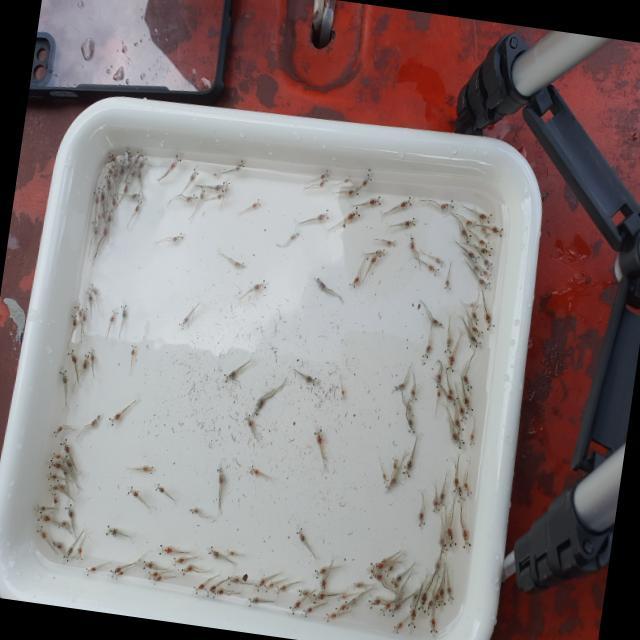babyshrimp: (450, 428, 466, 449), (417, 587, 429, 614), (346, 203, 361, 223), (402, 455, 414, 480), (253, 393, 266, 416), (461, 524, 472, 550), (408, 602, 418, 630), (126, 485, 143, 501), (104, 523, 121, 539), (459, 225, 472, 245), (447, 525, 458, 548), (462, 394, 474, 415), (180, 562, 198, 576), (169, 153, 182, 172), (312, 426, 325, 445), (484, 309, 495, 331), (453, 415, 465, 435), (206, 544, 221, 560), (289, 597, 303, 614), (158, 542, 175, 556), (63, 543, 75, 562), (59, 434, 71, 453), (440, 198, 455, 213), (466, 249, 481, 264), (314, 565, 329, 580), (313, 590, 328, 605), (252, 277, 266, 293), (388, 601, 402, 617), (367, 596, 383, 610), (391, 571, 405, 587), (369, 560, 385, 574), (226, 573, 242, 587), (204, 583, 218, 599), (36, 523, 49, 540), (445, 353, 456, 373), (462, 372, 473, 392), (316, 276, 328, 294), (253, 577, 267, 592), (37, 511, 52, 525), (399, 194, 412, 210), (427, 262, 440, 278), (108, 410, 121, 426), (429, 613, 438, 636), (437, 585, 446, 608), (178, 314, 190, 331), (393, 618, 405, 635), (53, 423, 65, 440), (386, 474, 397, 492), (445, 580, 454, 602), (369, 568, 383, 582), (344, 596, 358, 610), (304, 373, 318, 387), (491, 224, 504, 239), (469, 333, 482, 348), (445, 390, 458, 405), (325, 609, 338, 624), (193, 580, 206, 595), (295, 526, 307, 542), (224, 369, 236, 385), (444, 335, 454, 354), (59, 367, 69, 386), (64, 503, 75, 520), (67, 348, 78, 365), (171, 230, 184, 244), (478, 211, 492, 224), (334, 602, 347, 616), (248, 594, 261, 608), (249, 464, 263, 477), (173, 555, 186, 569), (154, 481, 167, 495), (85, 564, 99, 577), (317, 208, 329, 223), (479, 245, 494, 257), (431, 493, 440, 513), (452, 472, 461, 492), (463, 477, 473, 495), (380, 601, 392, 616), (212, 587, 227, 599), (110, 563, 122, 578), (35, 500, 47, 515), (48, 458, 63, 470), (371, 248, 382, 264), (98, 183, 107, 202), (217, 466, 226, 485), (138, 153, 148, 170), (189, 166, 199, 183), (422, 342, 432, 359), (109, 308, 119, 325), (471, 325, 484, 338), (430, 315, 443, 328), (302, 604, 315, 617), (141, 462, 154, 475), (48, 481, 61, 494), (349, 275, 361, 289), (482, 256, 494, 270), (479, 277, 491, 291), (263, 580, 275, 594), (142, 559, 156, 571), (62, 454, 73, 469), (459, 404, 468, 422), (120, 301, 129, 319), (244, 412, 254, 428), (89, 414, 101, 427), (214, 179, 225, 193), (51, 538, 65, 549), (73, 301, 82, 318), (92, 188, 100, 207), (235, 159, 245, 174), (362, 172, 372, 187), (480, 224, 490, 239), (385, 562, 395, 577), (418, 507, 425, 528), (369, 195, 381, 207), (404, 216, 416, 228), (470, 309, 479, 325), (409, 385, 417, 403), (391, 455, 400, 471), (438, 488, 446, 506), (119, 157, 126, 177), (134, 149, 142, 166), (408, 417, 416, 434), (82, 353, 90, 370), (186, 192, 198, 203), (347, 184, 359, 195), (465, 218, 477, 229), (276, 583, 287, 595), (152, 574, 163, 586), (251, 196, 261, 209), (130, 341, 138, 357), (76, 544, 83, 562), (89, 347, 96, 365), (81, 306, 88, 324), (479, 237, 490, 248), (123, 179, 131, 194), (435, 255, 445, 267), (394, 381, 406, 391), (337, 591, 349, 601), (147, 570, 159, 580), (47, 471, 59, 481), (89, 282, 99, 294), (224, 178, 231, 195), (436, 371, 443, 388), (91, 219, 98, 235), (135, 198, 142, 214), (382, 469, 389, 485), (51, 491, 59, 505), (86, 288, 94, 302), (234, 260, 245, 270), (290, 230, 300, 241), (352, 580, 363, 590), (226, 547, 237, 557), (58, 518, 69, 528), (56, 478, 66, 489), (106, 173, 112, 191), (108, 152, 117, 164), (200, 184, 206, 202), (482, 268, 491, 280), (298, 587, 310, 596), (189, 506, 201, 515), (444, 276, 451, 291), (320, 578, 327, 593), (71, 313, 78, 328), (387, 238, 397, 248), (51, 450, 61, 460), (436, 383, 443, 397), (107, 206, 113, 222), (410, 235, 416, 251), (103, 218, 108, 237), (132, 189, 141, 199), (320, 169, 329, 179), (469, 431, 475, 446), (320, 176, 328, 187), (111, 192, 117, 206), (107, 159, 115, 169), (344, 175, 352, 184), (341, 387, 347, 399)
